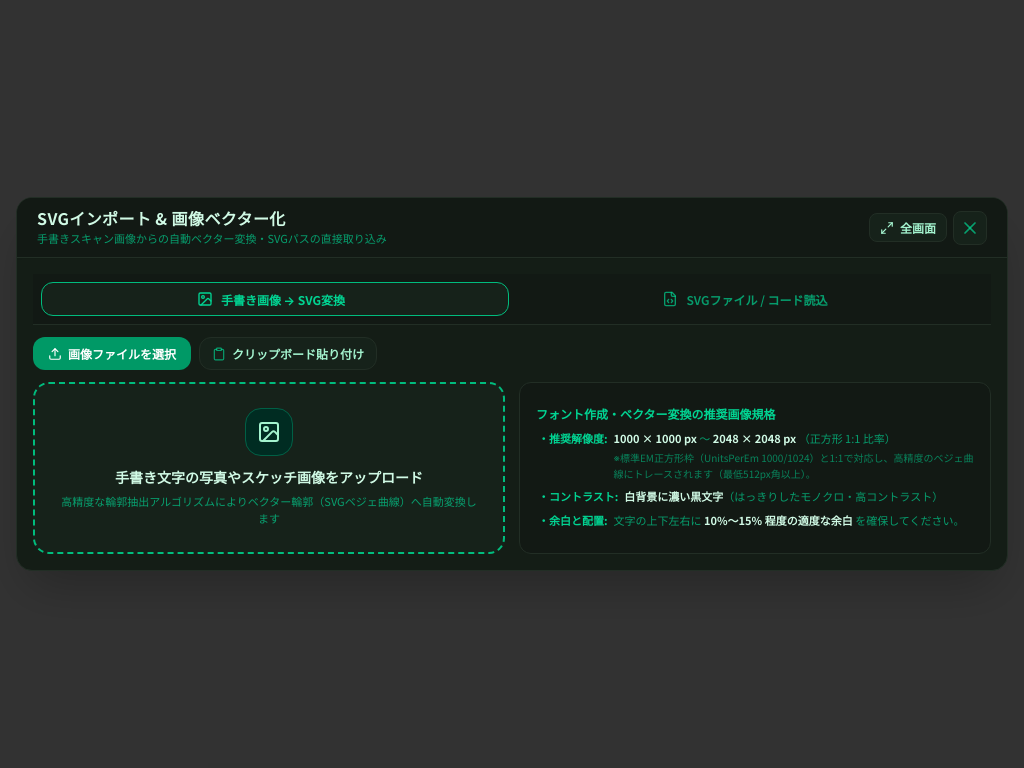
Test: SVG Import UI & Mobile-Optimized Studio Modals › SvgVectorizerModal uses rounded corners & theme classes, parses SVG input after debounce, and applies contours
Later steps or results of the test are not shown.
Expected: the dialog is shown, [16,197,1008,571]
Step 1. Click the button "SVGファイル / コード読込" → (749, 299), box [515,282,983,316]
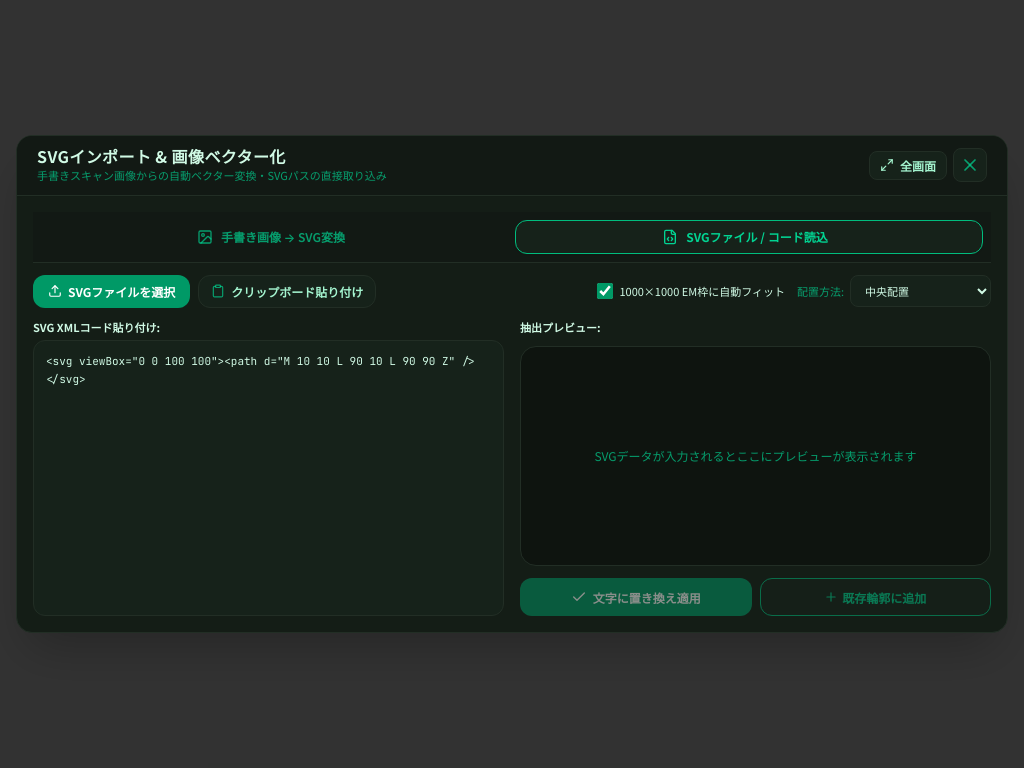
Now the text box is shown, box [33,340,504,616]
